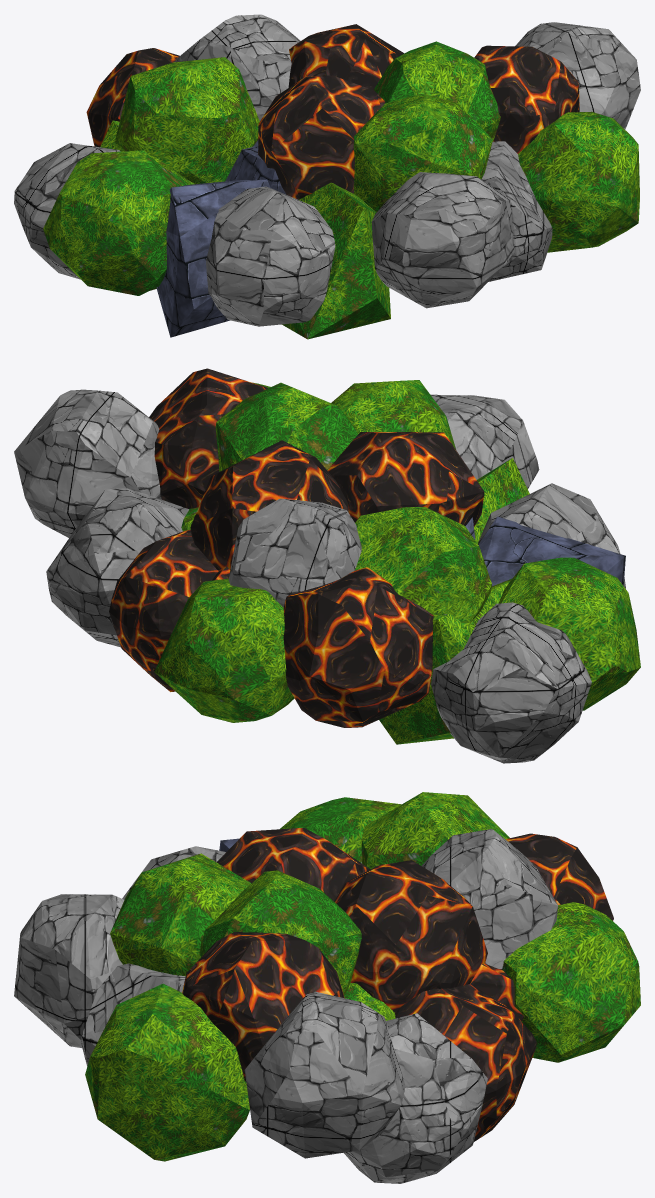
Rendered from newrock.fbx.
3 renders of one model, top to bottom at view 1: azimuth 30°, elevation 25°; view 2: azimuth 150°, elevation 25°; view 3: azimuth 270°, elevation 25°, orthographic. The views are drawn at different scales.
Parts seen in each view (by area): view 1: newrock; view 2: newrock; view 3: newrock.
Boxes of the visible parts, <box> form: newrock: <box>14,14,640,339</box>; newrock: <box>14,368,640,763</box>; newrock: <box>14,792,640,1183</box>.
Size of the model in its own units: 4.06 by 1.52 by 3.43.
